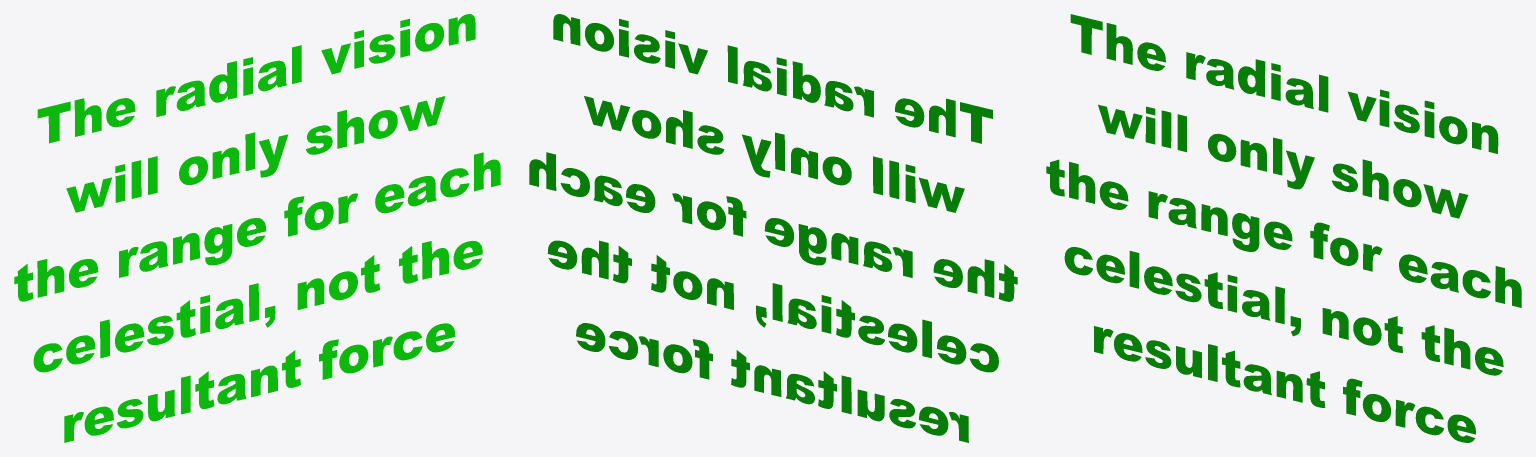
The model's file is tutorial_5.dae.
3 views of the same model, side by side, from view 1: azimuth 30°, elevation 25°; view 2: azimuth 150°, elevation 25°; view 3: azimuth 330°, elevation 25° (orthographic). The views are drawn at different scales.
Visible parts, largest first — view 1: The_radial_visio (×50); view 2: The_radial_visio (×52); view 3: The_radial_visio (×47).
Part boxes in pixels (x1,y1,x2,y2): The_radial_visio (×50): [33, 14, 500, 435]; The_radial_visio (×52): [529, 14, 998, 435]; The_radial_visio (×47): [1064, 14, 1521, 442].
Bounding box in the file's own units: 2742 × 12.96 × 1828.
